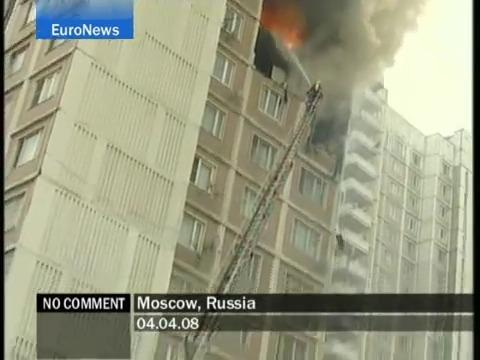fire: (285, 34, 296, 50)
